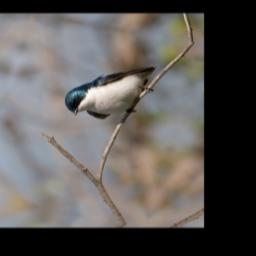Swallow: (60, 51, 163, 127)
